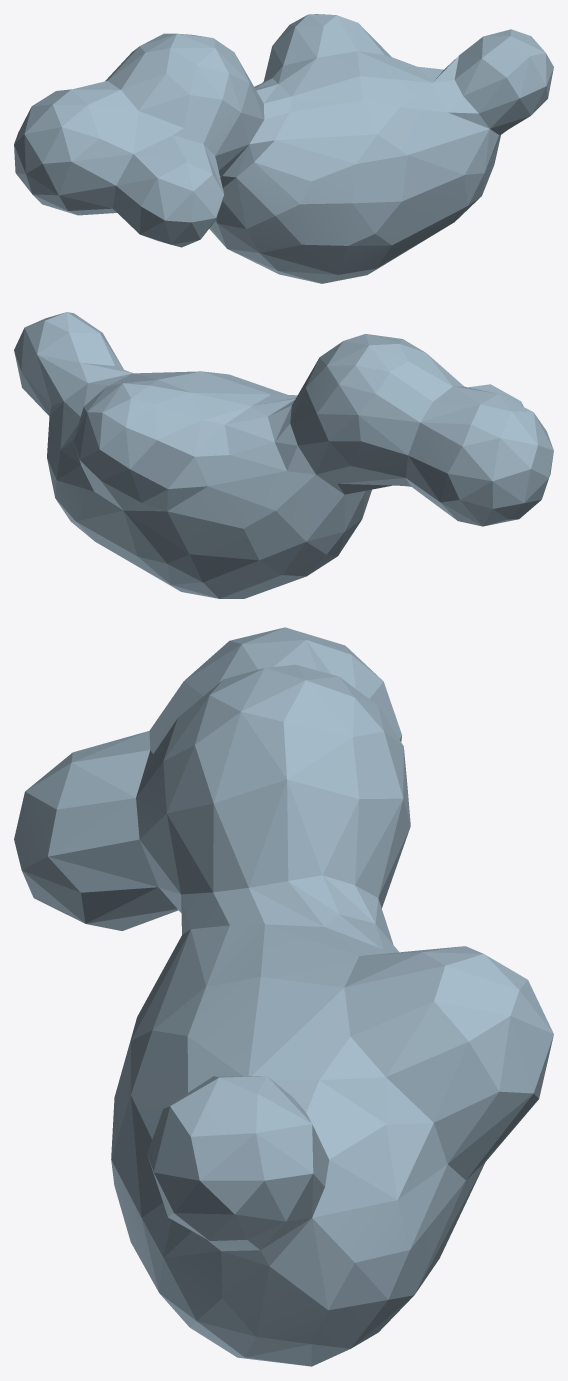
File: medium_cloud_8.fbx
The picture shows the model from 3 angles, top to bottom: view 1: azimuth 30°, elevation 25°; view 2: azimuth 150°, elevation 25°; view 3: azimuth 270°, elevation 25°; orthographic projection. The views are drawn at different scales.
Parts seen in each view (by area): view 1: cloud_58; view 2: cloud_58; view 3: cloud_58.
Boxes of the visible parts, box(x1,y1,x2,y2) form: cloud_58: box(14, 14, 553, 283); cloud_58: box(14, 312, 553, 598); cloud_58: box(14, 627, 553, 1366).
Size of the model in its own units: 496 by 252 by 243.
